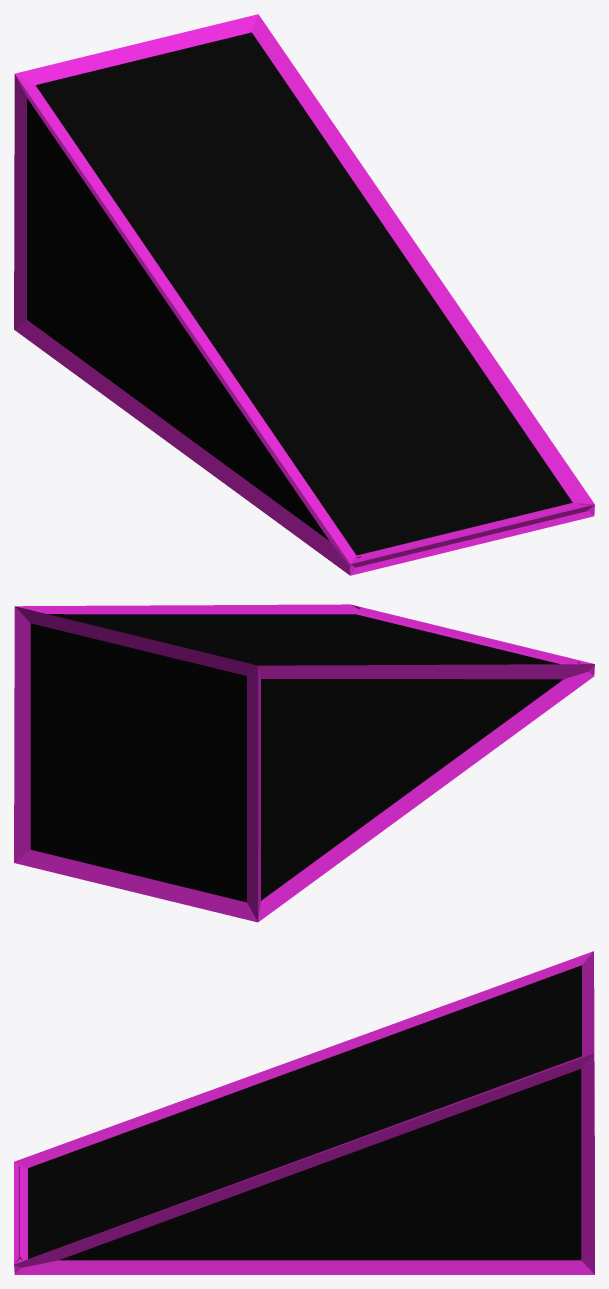
File: Slope.fbx
3 renders of one model, top to bottom at view 1: azimuth 30°, elevation 25°; view 2: azimuth 150°, elevation 25°; view 3: azimuth 270°, elevation 25°, orthographic. The views are drawn at different scales.
Parts seen in each view (by area): view 1: Cube.003, Cube.002; view 2: Cube.003, Cube.002; view 3: Cube.003, Cube.002.
Boxes of the visible parts, x1,y1,x2,y2 form: Cube.003: [27, 32, 572, 555]; Cube.002: [14, 14, 594, 575]; Cube.003: [30, 614, 563, 902]; Cube.002: [14, 604, 594, 922]; Cube.003: [28, 965, 581, 1260]; Cube.002: [14, 951, 594, 1274].
Bounding box in the file's own units: 209 × 211 × 499.
